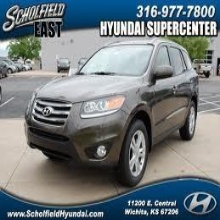no damage: (24, 38, 199, 188)
